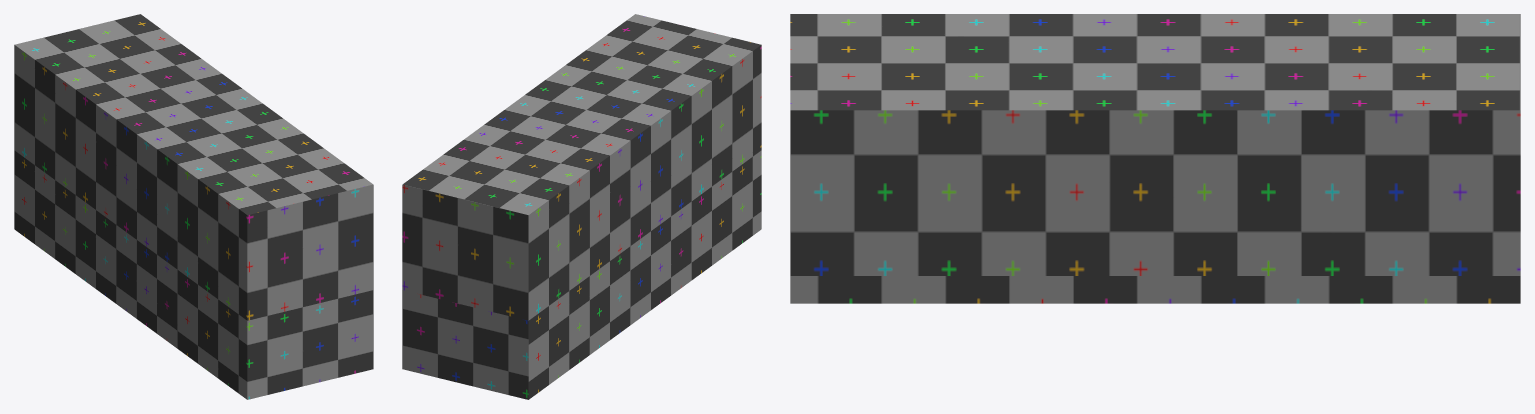
Rendered from scenario_prototype_interior_start_basement.fbx.
3 renders of one model, left to right at view 1: azimuth 30°, elevation 25°; view 2: azimuth 150°, elevation 25°; view 3: azimuth 270°, elevation 25°, orthographic. The views are drawn at different scales.
Parts seen in each view (by area): view 1: interior_exit_basement; view 2: interior_exit_basement; view 3: interior_exit_basement.
Part boxes in pixels (x1,y1,x2,y2): interior_exit_basement: (14,14,373,399); interior_exit_basement: (402,14,761,399); interior_exit_basement: (790,14,1520,303).
Bounding box in the file's own units: 500 × 700 × 1600.
